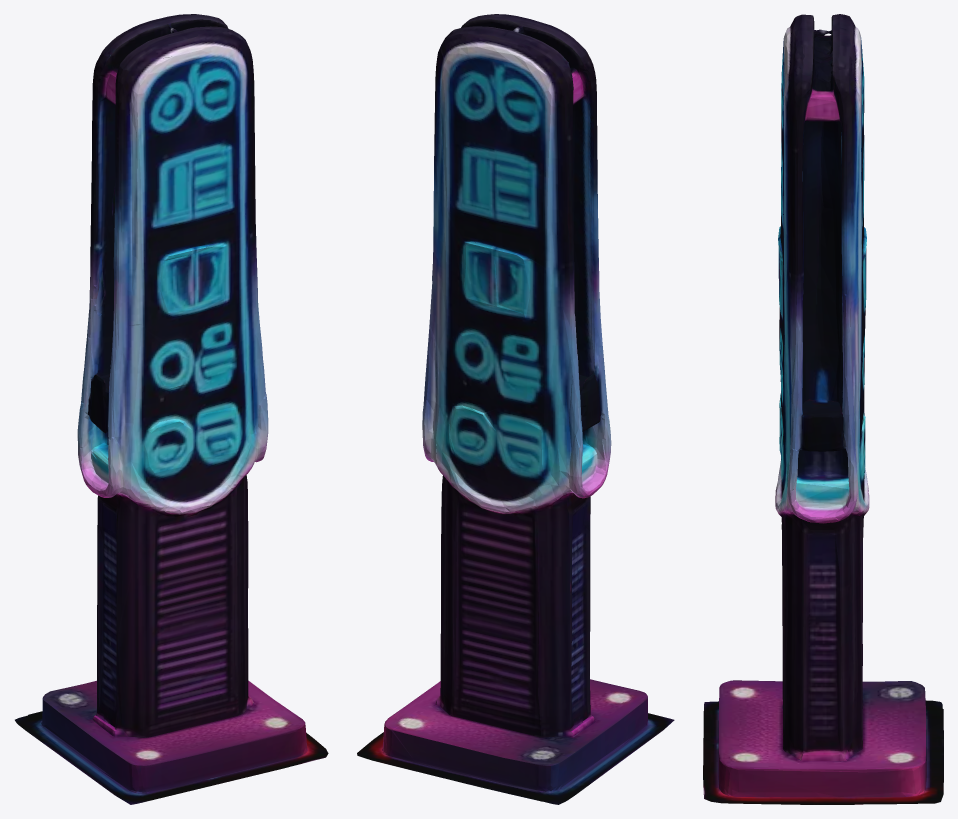
The model's file is prop_kurogane_sign.glb.
3 renders of one model, left to right at view 1: azimuth 30°, elevation 25°; view 2: azimuth 150°, elevation 25°; view 3: azimuth 270°, elevation 25°, orthographic.
Parts seen in each view (by area): view 1: geometry_0; view 2: geometry_0; view 3: geometry_0.
Boxes of the visible parts, x1,y1,x2,y2 form: geometry_0: (15, 14, 328, 804); geometry_0: (357, 14, 674, 804); geometry_0: (703, 14, 943, 804).
Size of the model in its own units: 0.3069 by 0.9952 by 0.2998.
Materials: 1 (1 with a texture image).
